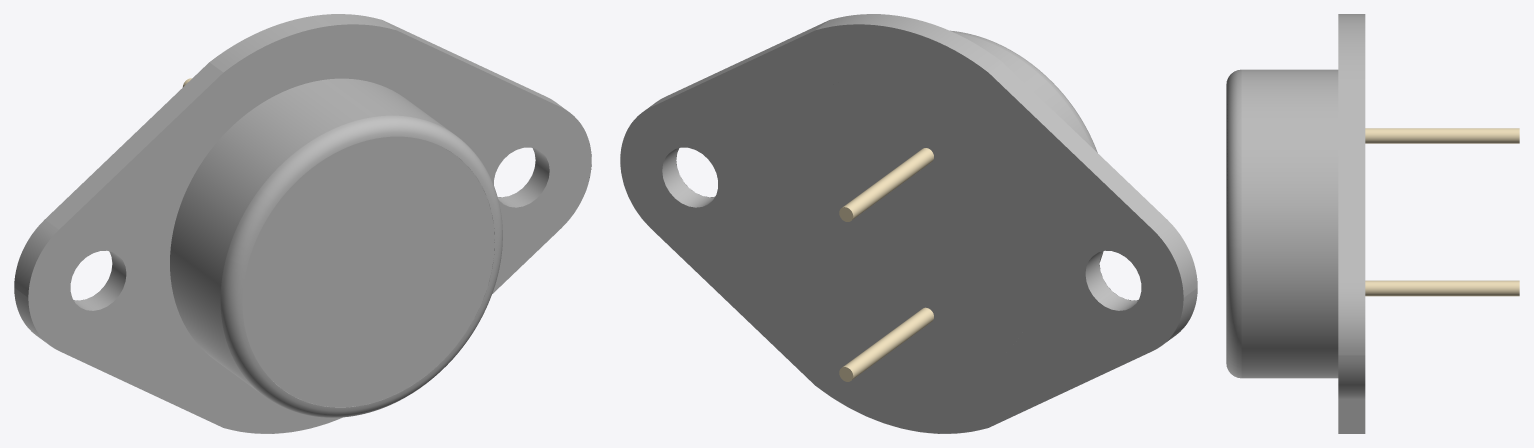
3 renders of one model, left to right at view 1: azimuth 30°, elevation 25°; view 2: azimuth 150°, elevation 25°; view 3: azimuth 270°, elevation 25°, orthographic. The views are drawn at different scales.
Parts seen in each view (by area): view 1: Shape_IndexedFaceSet.004, Shape_IndexedFaceSet.021, Shape_IndexedFaceSet.015, Shape_IndexedFaceSet.018, Shape_IndexedFaceSet.002, Shape_IndexedFaceSet, Shape_IndexedFaceSet.006, Shape_IndexedFaceSet.012, Shape_IndexedFaceSet.014, Shape_IndexedFaceSet.001; view 2: Shape_IndexedFaceSet.003, Shape_IndexedFaceSet.013, Shape_IndexedFaceSet.002, Shape_IndexedFaceSet, Shape_IndexedFaceSet.015, Shape_IndexedFaceSet.016, Shape_IndexedFaceSet.017, Shape_IndexedFaceSet.006, Shape_IndexedFaceSet.012, Shape_IndexedFaceSet.014, Shape_IndexedFaceSet.001, Shape_IndexedFaceSet.018; view 3: Shape_IndexedFaceSet.015, Shape_IndexedFaceSet.001, Shape_IndexedFaceSet.018, Shape_IndexedFaceSet.017, Shape_IndexedFaceSet.016, Shape_IndexedFaceSet, Shape_IndexedFaceSet.005, Shape_IndexedFaceSet.007, Shape_IndexedFaceSet.009.
Boxes of the visible parts, x1,y1,x2,y2 form: Shape_IndexedFaceSet.004: (28,24,591,433); Shape_IndexedFaceSet.021: (242,136,494,407); Shape_IndexedFaceSet.015: (170,78,494,407); Shape_IndexedFaceSet.018: (220,115,502,417); Shape_IndexedFaceSet.002: (45,62,223,229); Shape_IndexedFaceSet: (209,14,395,72); Shape_IndexedFaceSet.006: (14,219,58,297); Shape_IndexedFaceSet.012: (74,251,126,310); Shape_IndexedFaceSet.014: (497,148,549,207); Shape_IndexedFaceSet.001: (383,20,559,106); Shape_IndexedFaceSet.003: (620,24,1183,433); Shape_IndexedFaceSet.013: (761,78,1041,379); Shape_IndexedFaceSet.002: (988,62,1166,229); Shape_IndexedFaceSet: (816,14,1002,72); Shape_IndexedFaceSet.015: (954,32,1101,257); Shape_IndexedFaceSet.016: (842,148,933,219); Shape_IndexedFaceSet.017: (842,307,933,379); Shape_IndexedFaceSet.006: (1153,219,1197,297); Shape_IndexedFaceSet.012: (1085,251,1137,310); Shape_IndexedFaceSet.014: (662,148,714,207); Shape_IndexedFaceSet.001: (652,20,828,106); Shape_IndexedFaceSet.018: (950,30,1103,261); Shape_IndexedFaceSet.015: (1241,69,1338,378); Shape_IndexedFaceSet.001: (1338,94,1365,282); Shape_IndexedFaceSet.018: (1226,69,1241,378); Shape_IndexedFaceSet.017: (1365,280,1519,296); Shape_IndexedFaceSet.016: (1365,128,1519,143); Shape_IndexedFaceSet: (1338,14,1365,94); Shape_IndexedFaceSet.005: (1338,283,1365,355); Shape_IndexedFaceSet.007: (1338,355,1365,398); Shape_IndexedFaceSet.009: (1338,398,1365,433).
Size of the model in its own units: 15.83 by 10.71 by 7.48.
